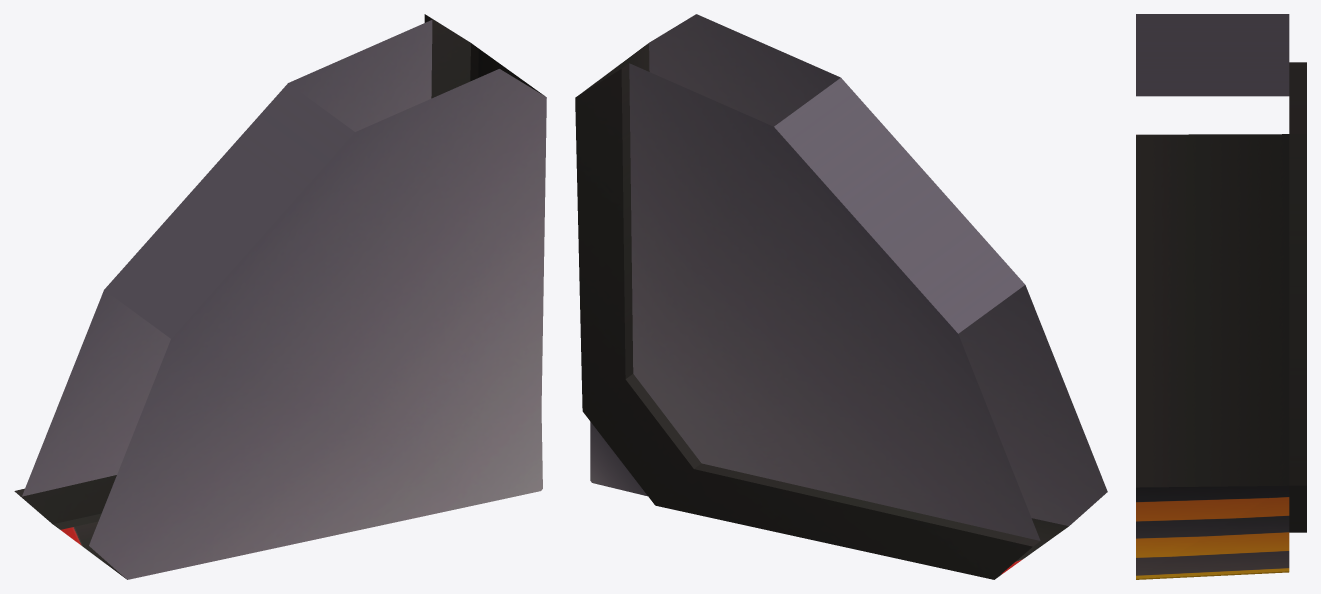
File: Gate_Door.FBX
3 views of the same model, side by side, from view 1: azimuth 30°, elevation 25°; view 2: azimuth 150°, elevation 25°; view 3: azimuth 270°, elevation 25° (orthographic). The views are drawn at different scales.
Parts seen in each view (by area): view 1: Gate_Door001; view 2: Gate_Door001; view 3: Gate_Door001.
Part boxes in pixels (x1,y1,x2,y2): Gate_Door001: [14, 14, 546, 579]; Gate_Door001: [575, 14, 1107, 579]; Gate_Door001: [1136, 14, 1306, 579].
Size of the model in its own units: 0.7889 by 0.7119 by 0.2229.
Materials: 1 (1 with a texture image).
